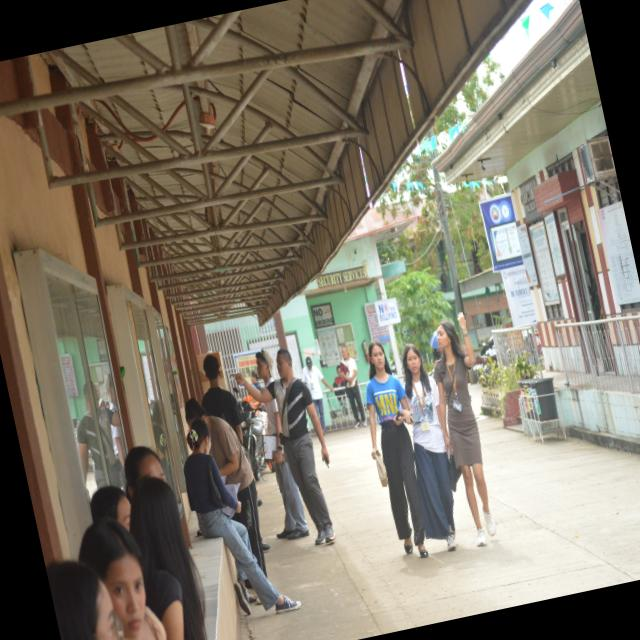person: (184, 419, 300, 614), (235, 349, 335, 545), (185, 399, 267, 576), (434, 313, 496, 546), (367, 341, 428, 557), (131, 477, 206, 639), (402, 344, 456, 550), (79, 519, 166, 639), (265, 399, 309, 539), (46, 562, 124, 639), (77, 385, 125, 488), (202, 355, 243, 441), (302, 357, 334, 432), (124, 446, 166, 500), (341, 346, 367, 427), (91, 486, 131, 529)
